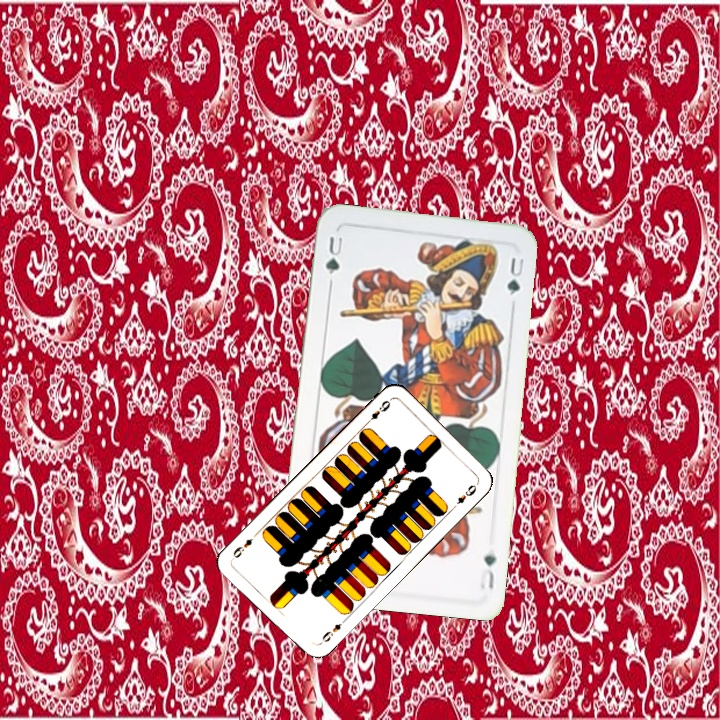E9: (315, 615, 348, 647), (361, 396, 393, 427)
GU: (321, 233, 345, 277), (475, 549, 498, 592)
